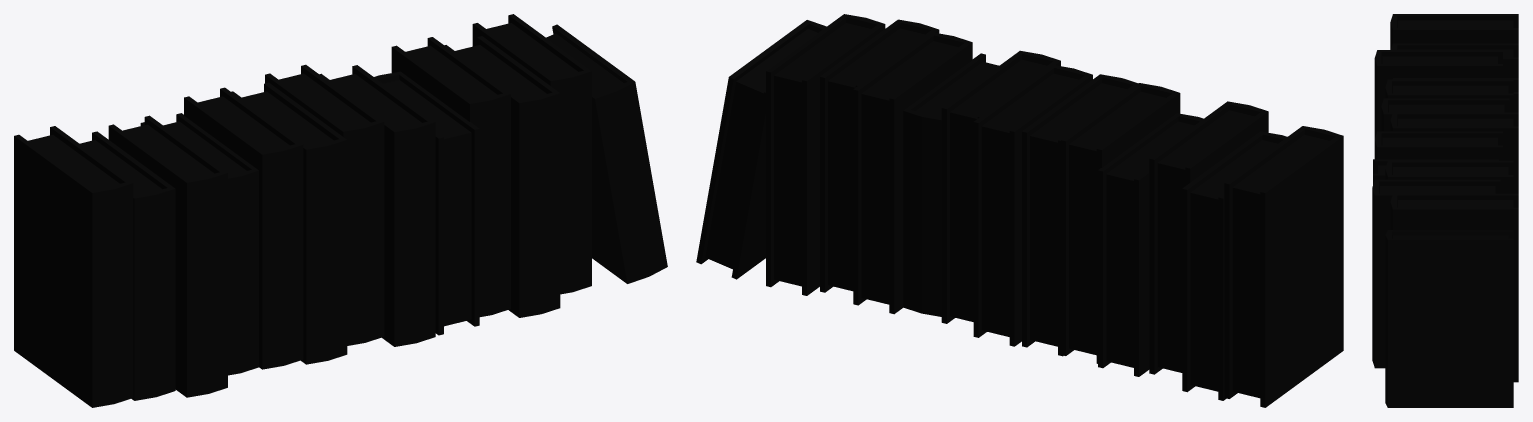
Rendered from SM_Book_7.obj.
The picture shows the model from 3 angles, left to right: view 1: azimuth 30°, elevation 25°; view 2: azimuth 150°, elevation 25°; view 3: azimuth 270°, elevation 25°; orthographic projection. The views are drawn at different scales.
Visible parts, largest first — view 1: SM_Book_7_M_Texture_Atlas; view 2: SM_Book_7_M_Texture_Atlas; view 3: SM_Book_7_M_Texture_Atlas.
Boxes of the visible parts, left/top/right/bottom form: SM_Book_7_M_Texture_Atlas: left=14, top=14, right=667, bottom=407; SM_Book_7_M_Texture_Atlas: left=696, top=14, right=1343, bottom=407; SM_Book_7_M_Texture_Atlas: left=1372, top=14, right=1518, bottom=407.
Bounding box in the file's own units: 1.39 × 0.5087 × 0.3842.
